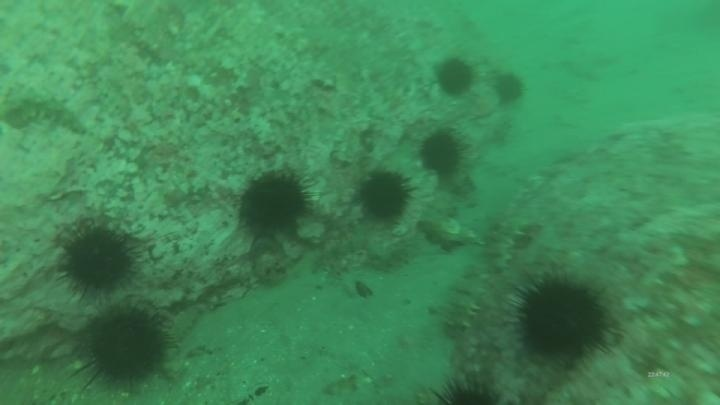echinus: (512, 273, 613, 365), (77, 305, 172, 389), (56, 223, 140, 299), (236, 167, 314, 239), (355, 167, 414, 224), (428, 369, 509, 405), (417, 128, 467, 180), (433, 55, 477, 99), (491, 71, 527, 107)
holothurian: (441, 221, 524, 332), (2, 90, 91, 137), (162, 303, 207, 351)
